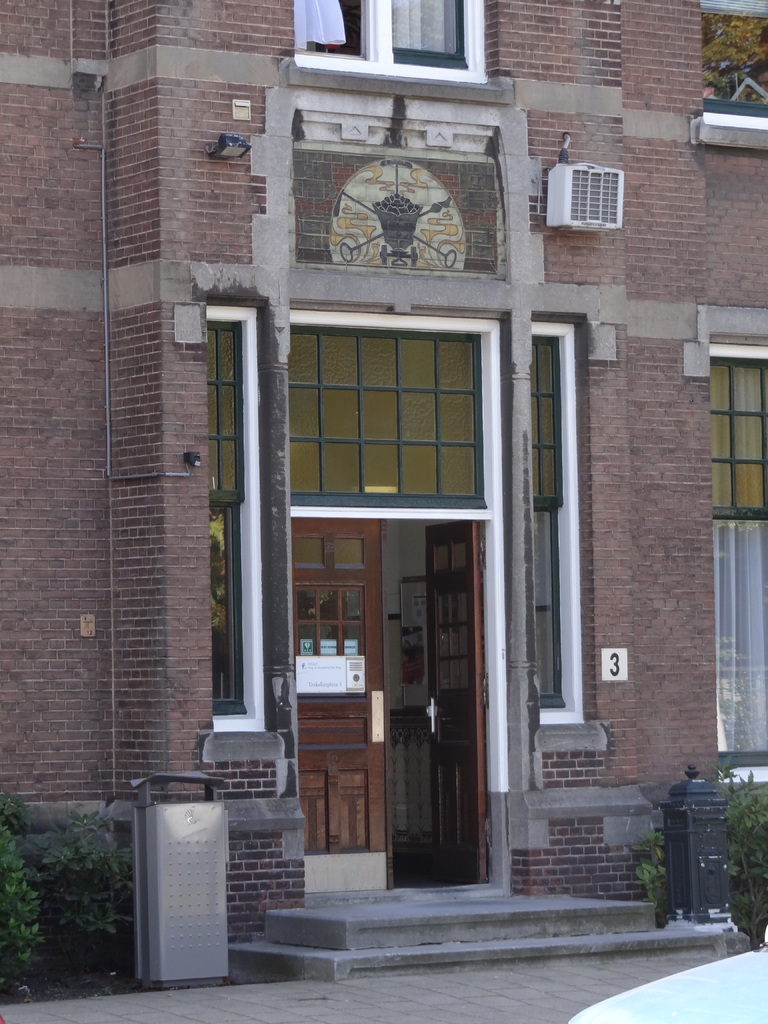door: (424, 525, 485, 863)
handle: (424, 697, 439, 738)
